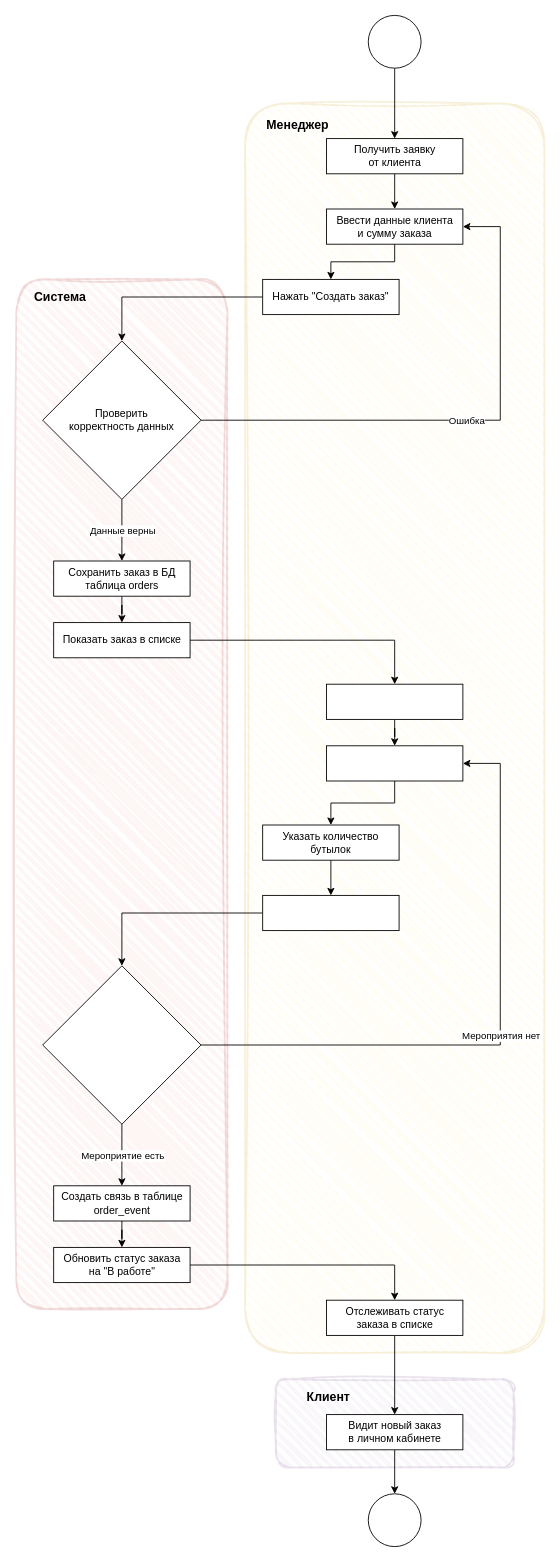
Image size: 560x1562. Some labels were removed from this diagram. The centre of each missing label's shape, as x and y in pixels:
Выбрать мероприятие из списка: the point at 394,763
Выбрать созданный заказ: the point at 394,701
Конец: the point at 394,1520
Нажать "Привязать к мероприятию": the point at 330,913
Начало: the point at 394,41
Проверить существование мероприятия: the point at 121,1044
